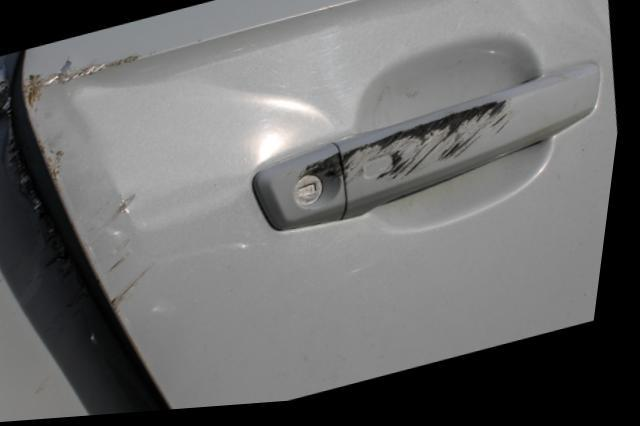scratch: (0, 74, 83, 301), (307, 107, 518, 189), (93, 188, 161, 310), (29, 57, 140, 108)
